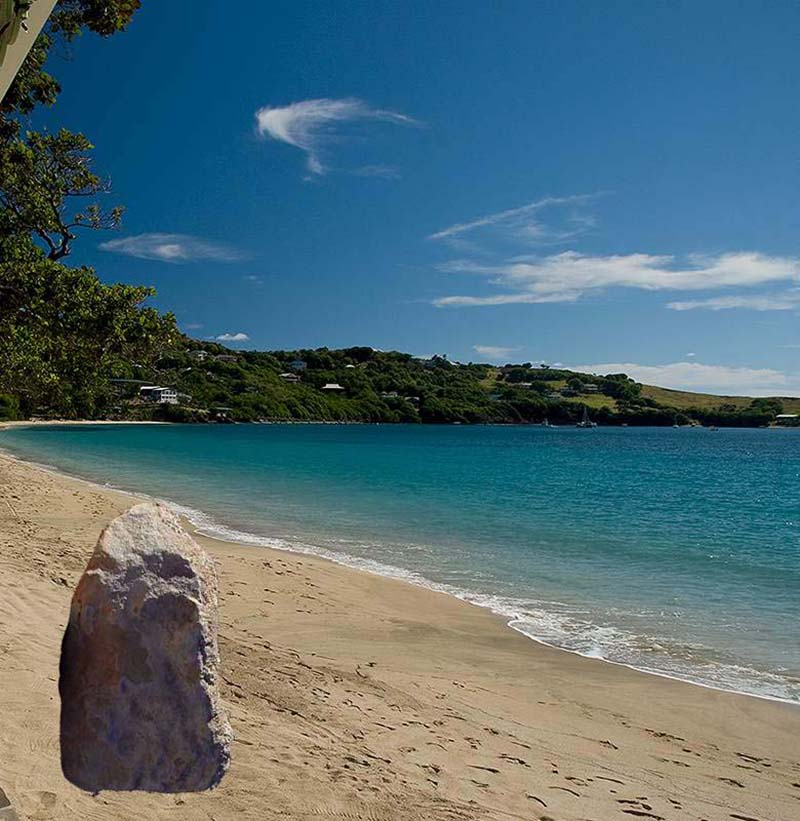Rocks: (53, 490, 238, 815)
